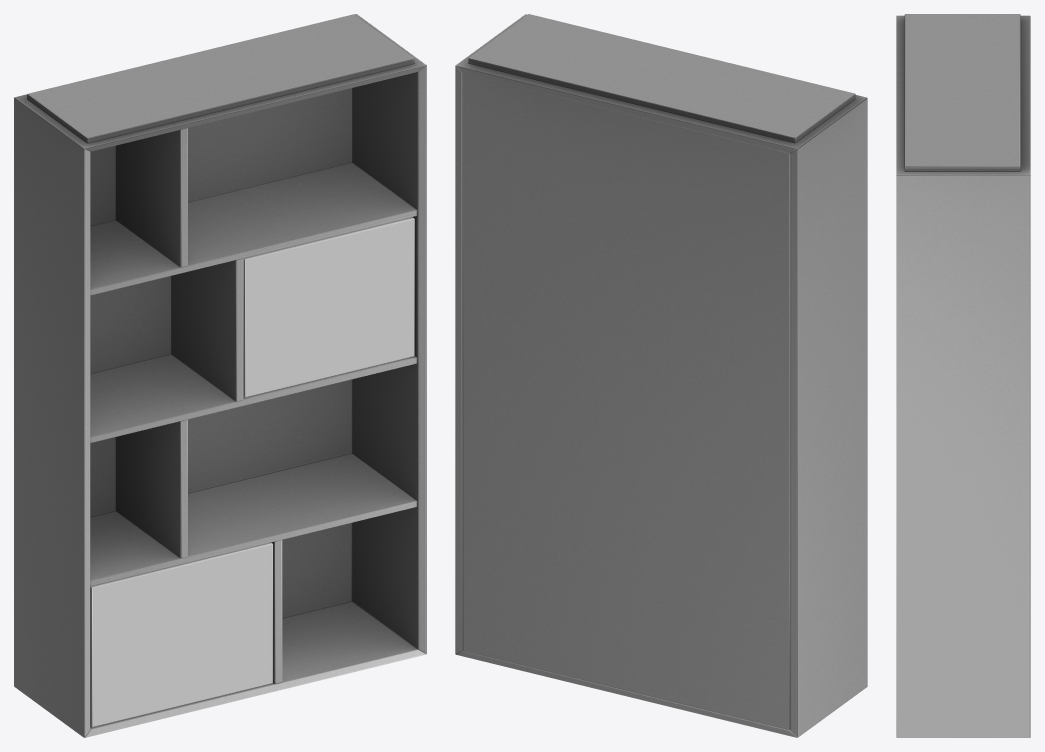
Rendered from living7.glb.
The picture shows the model from 3 angles, left to right: view 1: azimuth 30°, elevation 25°; view 2: azimuth 150°, elevation 25°; view 3: azimuth 270°, elevation 25°; orthographic projection. The views are drawn at different scales.
Parts seen in each view (by area): view 1: Stretto_Tall_Shelves_Grey_MEDIUM_GREY_0, Stretto_Tall_Shelves_Grey_WHITE_0; view 2: Stretto_Tall_Shelves_Grey_MEDIUM_GREY_0; view 3: Stretto_Tall_Shelves_Grey_MEDIUM_GREY_0.
Part boxes in pixels (x1,y1,x2,y2): Stretto_Tall_Shelves_Grey_MEDIUM_GREY_0: [14, 14, 426, 737]; Stretto_Tall_Shelves_Grey_WHITE_0: [90, 217, 414, 727]; Stretto_Tall_Shelves_Grey_MEDIUM_GREY_0: [455, 14, 867, 737]; Stretto_Tall_Shelves_Grey_MEDIUM_GREY_0: [896, 14, 1030, 737].
Size of the model in its own units: 1.04 by 1.72 by 0.3685.
Materials: 2 (2 with a texture image).
